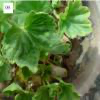Tomato leaf mosaic virus: (3, 11, 73, 72), (55, 2, 93, 38)
